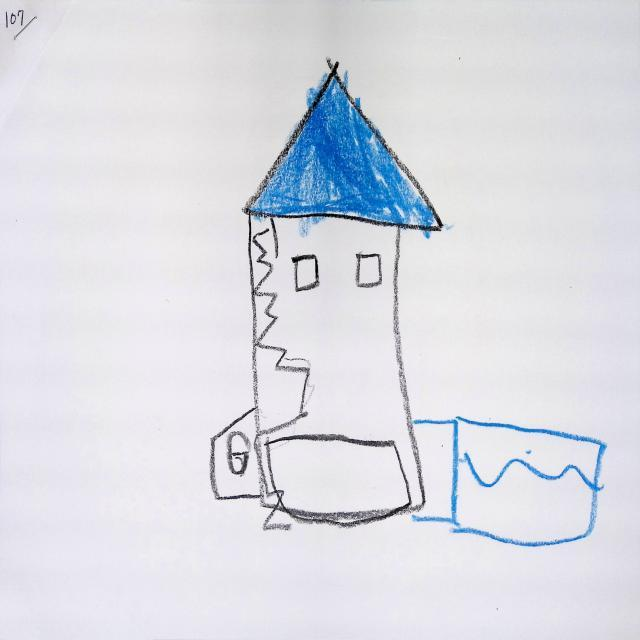house: (211, 62, 443, 530)
roof: (245, 62, 443, 231)
wall: (212, 214, 426, 529)
window: (228, 432, 251, 477), (294, 254, 320, 292), (357, 254, 382, 288)
